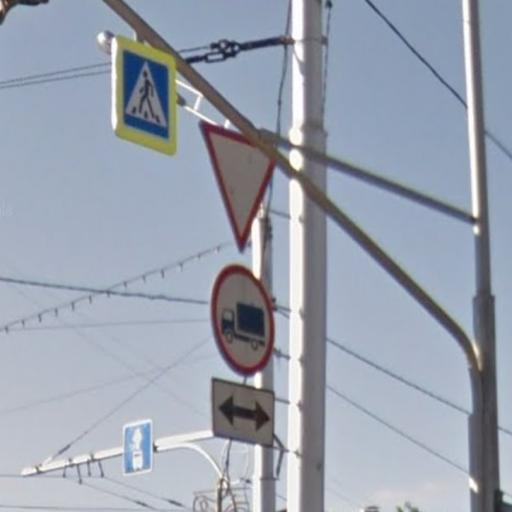traffic_sign: (199, 119, 280, 255), (112, 35, 180, 159), (210, 263, 277, 379)
